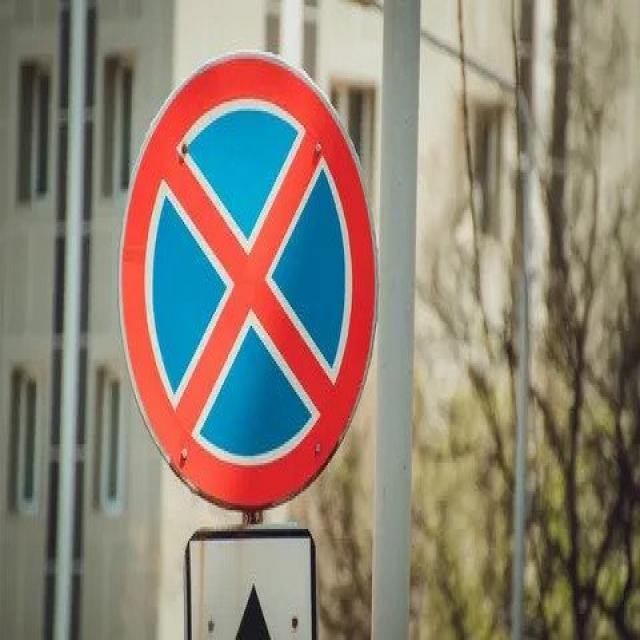no stopping: (116, 46, 382, 520)
